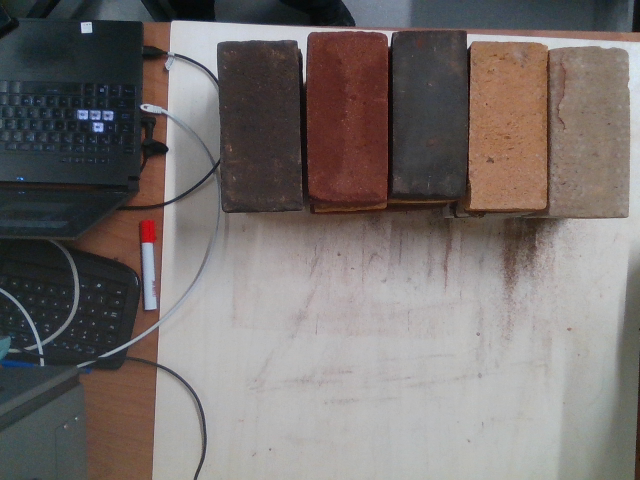brick: (218, 41, 300, 208), (307, 33, 385, 194), (390, 32, 468, 193), (469, 45, 547, 206), (550, 50, 628, 211)
